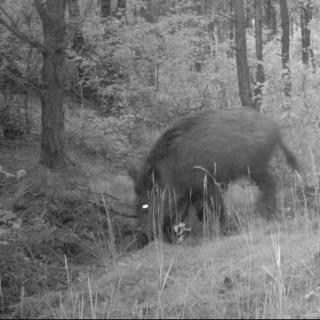Pig: (126, 89, 293, 246)
